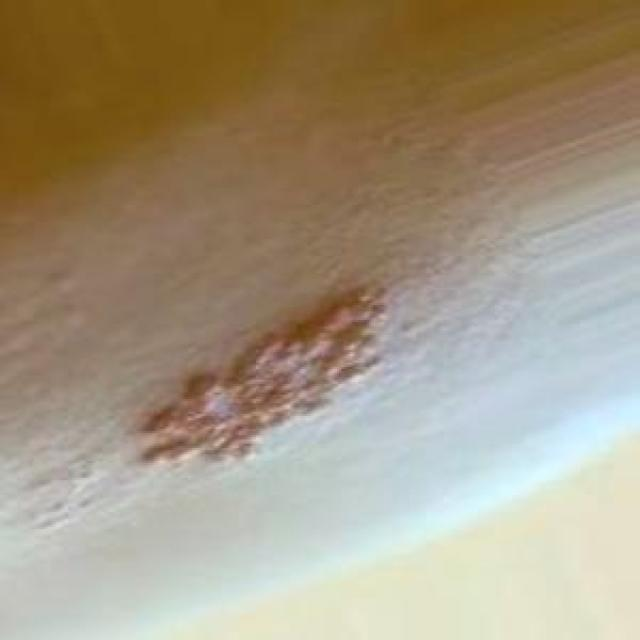Shingles: (144, 281, 396, 478)
